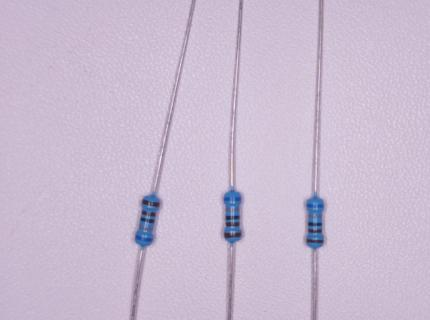Black band: (140, 217, 156, 224), (226, 215, 240, 220), (308, 221, 322, 226)
Blue band: (134, 235, 153, 243), (307, 203, 324, 208), (224, 197, 241, 201)
Brown band: (142, 199, 161, 208), (224, 232, 241, 238), (142, 210, 156, 217), (307, 238, 324, 243), (226, 222, 240, 227), (308, 229, 322, 233)
Grey band: (139, 225, 153, 232), (226, 207, 240, 212), (309, 214, 322, 218)
